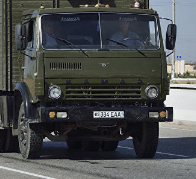truck: (1, 3, 183, 166)
